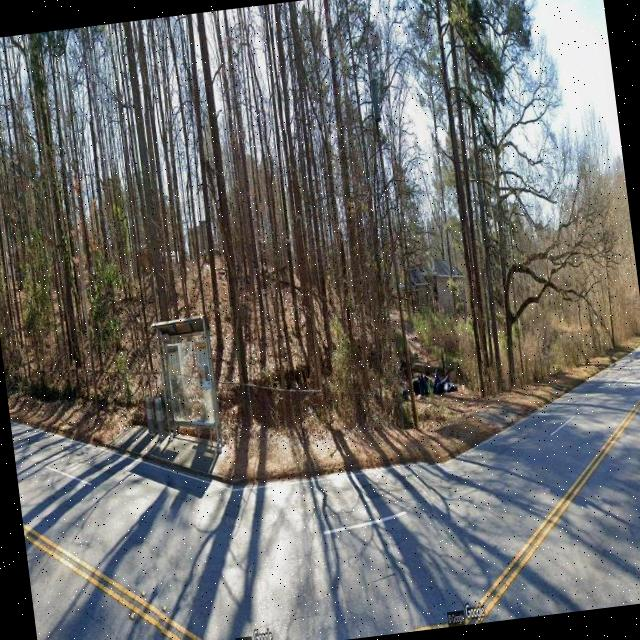seating: (191, 416, 218, 450)
shelter: (154, 312, 222, 456)
trash_can: (153, 388, 168, 439)
